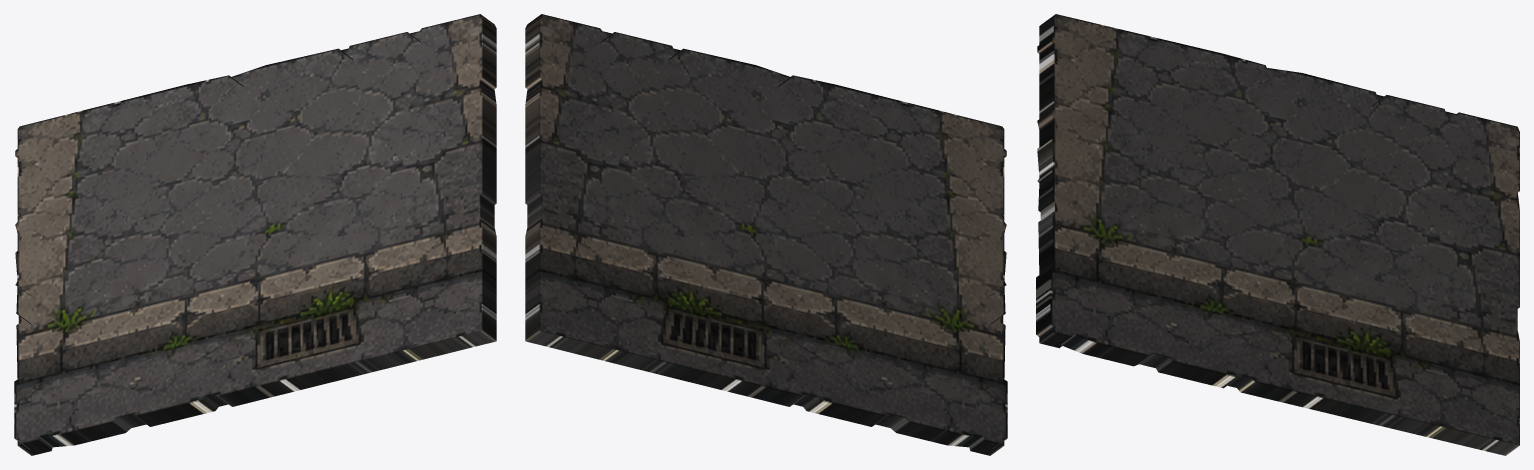
File: props_03.glb
The picture shows the model from 3 angles, left to right: view 1: azimuth 30°, elevation 25°; view 2: azimuth 150°, elevation 25°; view 3: azimuth 330°, elevation 25°; orthographic projection.
Parts seen in each view (by area): view 1: world; view 2: world; view 3: world.
Boxes of the visible parts, box(x1,y1,x2,y2) form: world: box(14, 14, 496, 455); world: box(525, 14, 1007, 455); world: box(1036, 14, 1519, 455).
Size of the model in its own units: 4.23 by 2.76 by 0.2216.
Materials: 1 (1 with a texture image).
